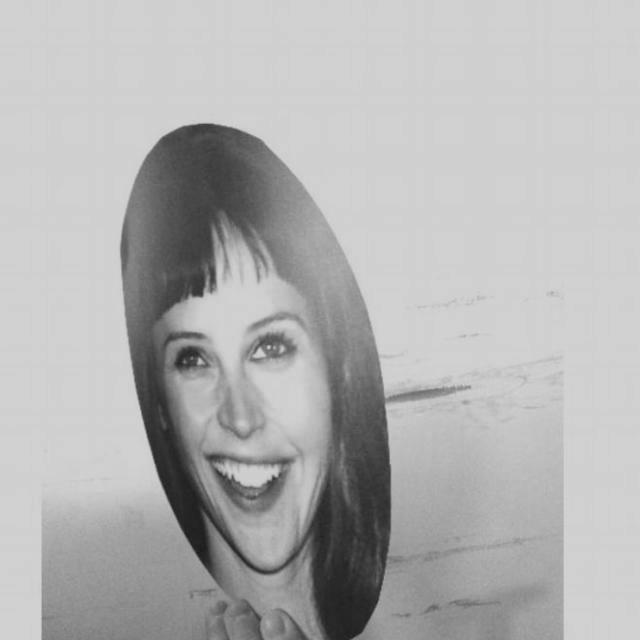fake: (113, 117, 401, 640)
